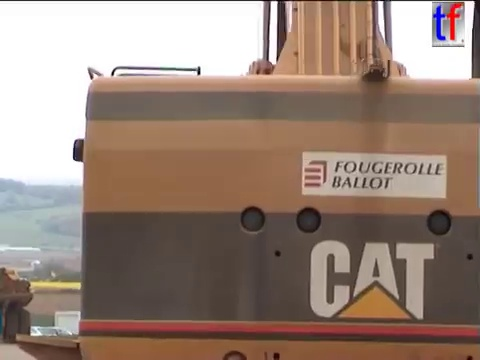excavator: (13, 1, 480, 360)
truck: (1, 263, 35, 347)
